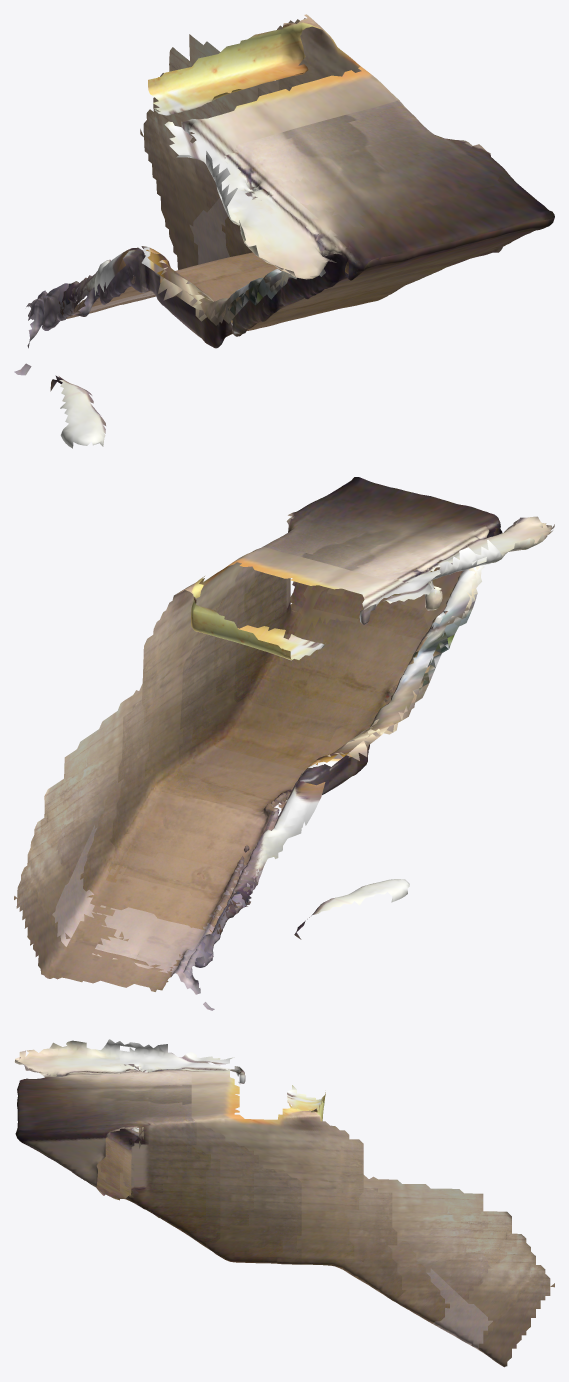
The model's file is Disc7.obj.
3 views of the same model, one above another, from view 1: azimuth 30°, elevation 25°; view 2: azimuth 150°, elevation 25°; view 3: azimuth 270°, elevation 25° (orthographic). The views are drawn at different scales.
Size of the model in its own units: 3.32 by 4.49 by 8.47.
1 material, 1 textured.
